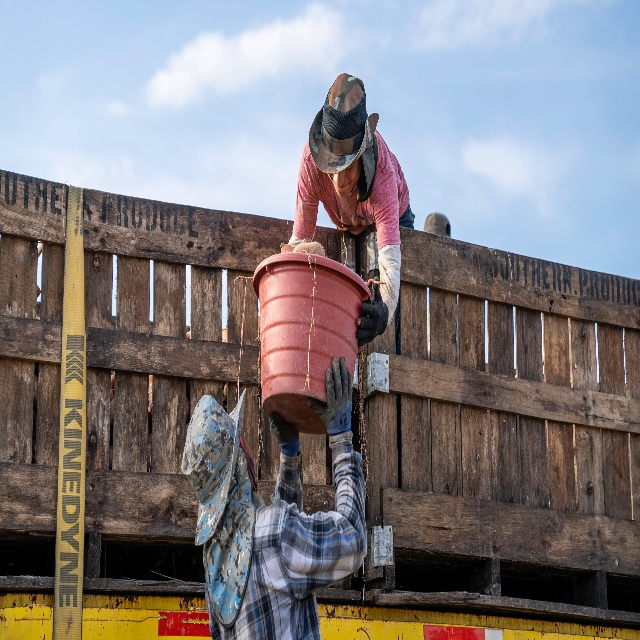Guantes: (307, 352, 352, 431), (356, 275, 387, 345), (268, 410, 299, 451)
